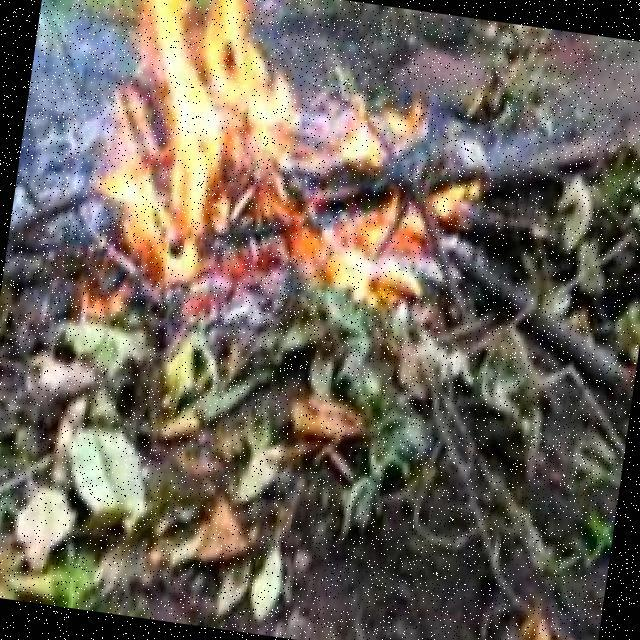Fire: (92, 0, 327, 303), (299, 95, 437, 312)
